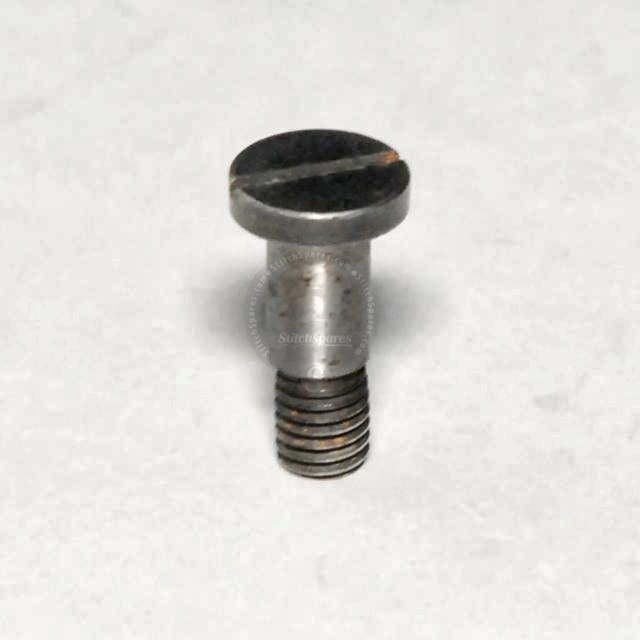duz: (225, 125, 412, 246)
